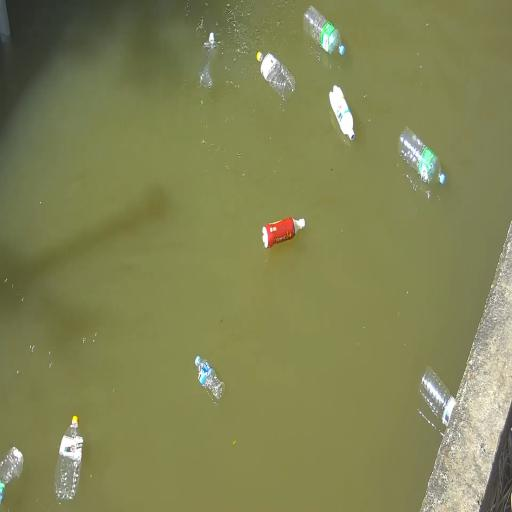plastic: (399, 128, 445, 184), (55, 416, 83, 502), (420, 367, 455, 426), (304, 6, 345, 55), (257, 52, 295, 100), (329, 85, 354, 140), (262, 217, 305, 248), (195, 356, 224, 401), (0, 447, 23, 502), (200, 32, 218, 89)
